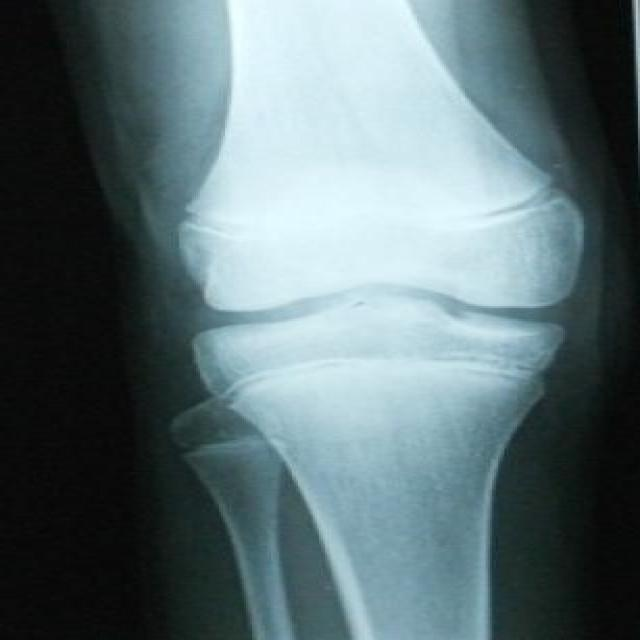Avulsion-fracture-: (154, 319, 348, 477)
